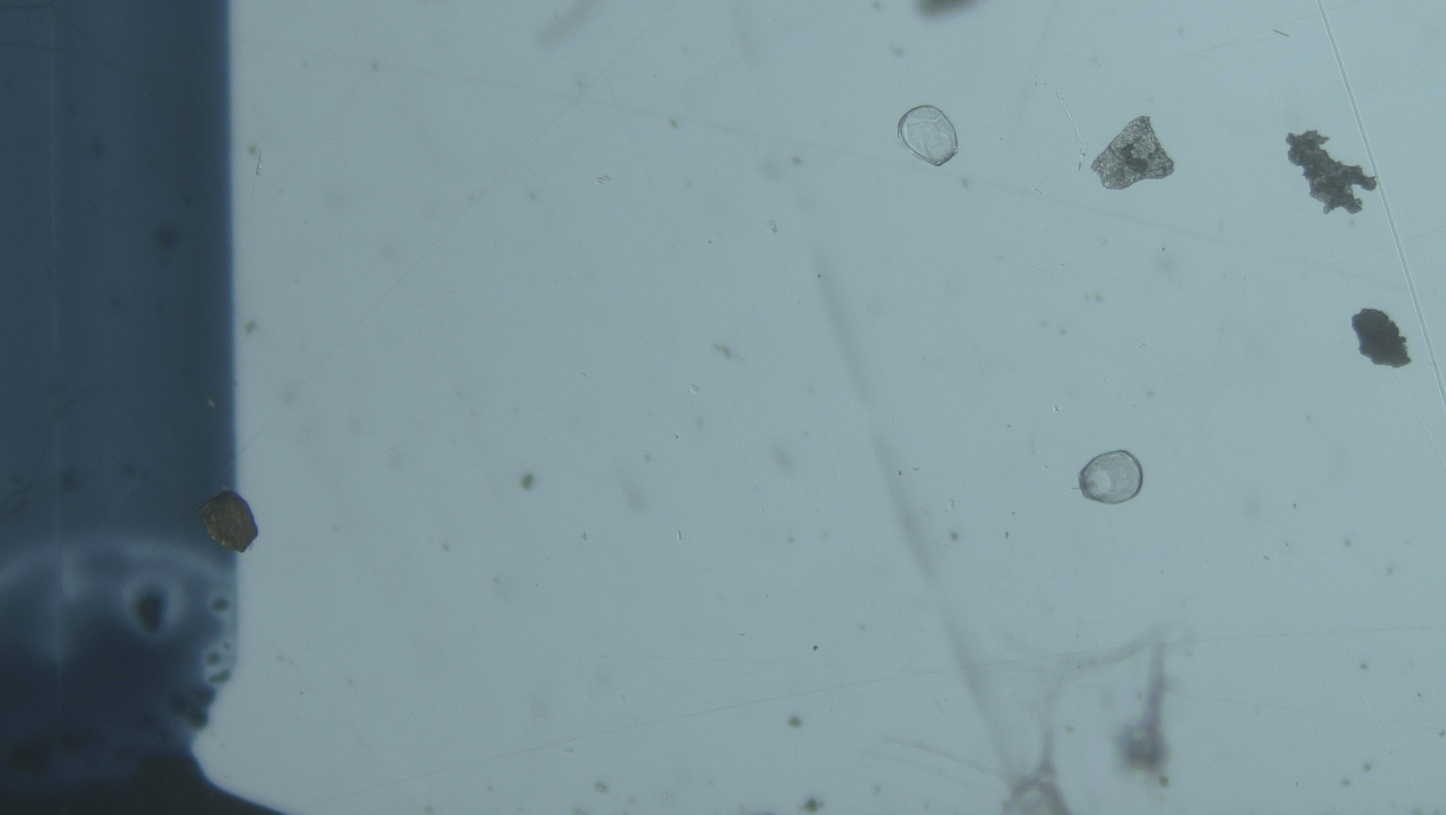dead: (898, 105, 958, 165), (1079, 450, 1143, 505)
live: (198, 491, 257, 553)
